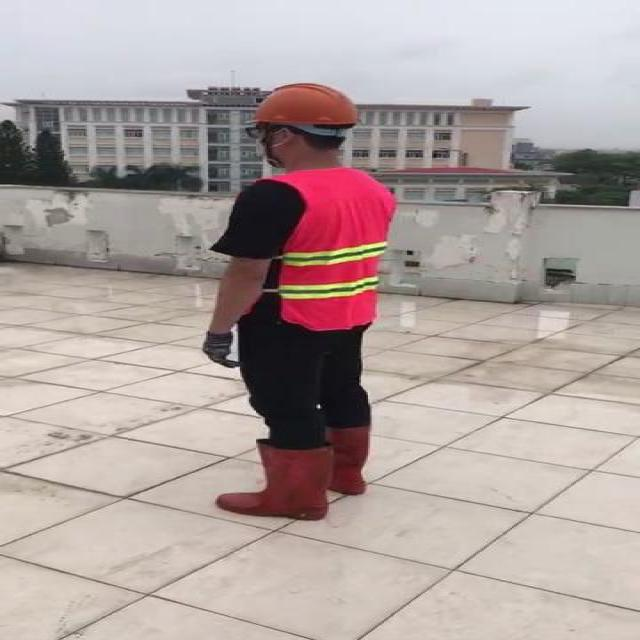boots: (215, 439, 338, 526), (318, 423, 375, 501)
hand_glove: (201, 330, 236, 369)
head_helmet: (244, 80, 366, 130)
person: (199, 77, 404, 526)
vest: (263, 163, 395, 333)
